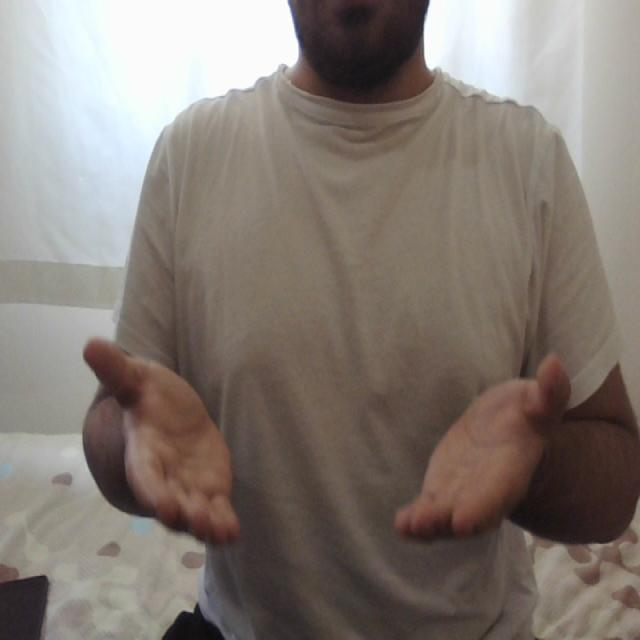Evet: (76, 332, 574, 557)
